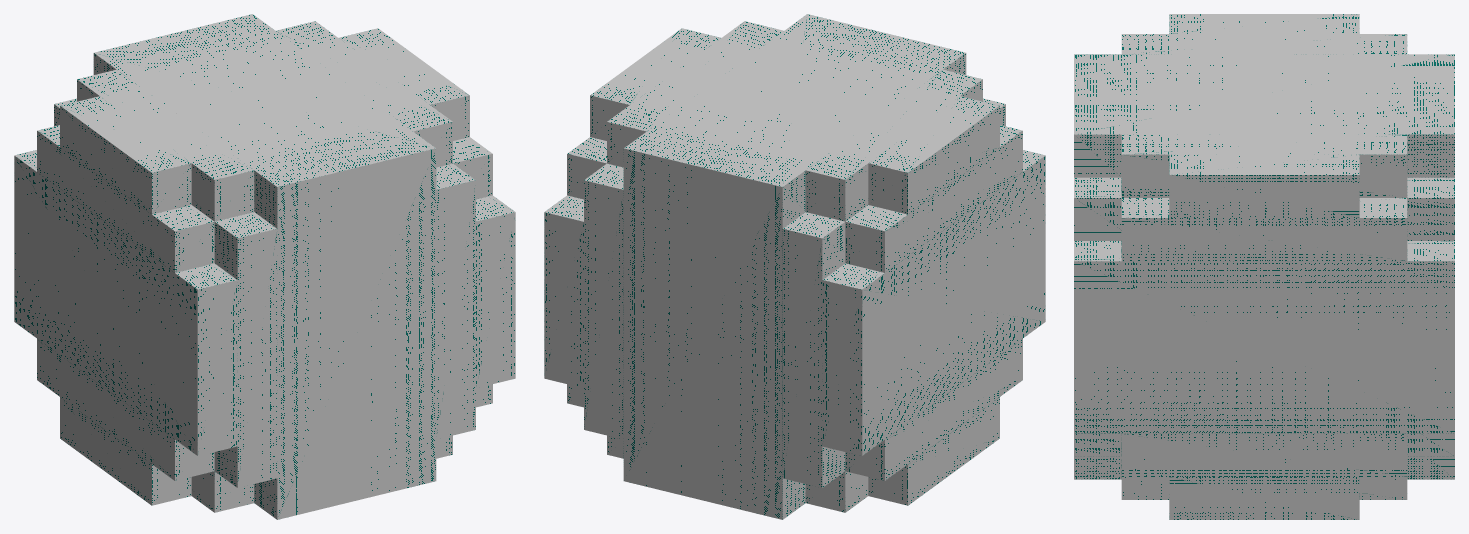
Rendered from green-leaves-block.fbx.
3 views of the same model, side by side, from view 1: azimuth 30°, elevation 25°; view 2: azimuth 150°, elevation 25°; view 3: azimuth 270°, elevation 25° (orthographic). The views are drawn at different scales.
Parts seen in each view (by area): view 1: generated; view 2: generated; view 3: generated.
Part boxes in pixels (x1,y1,x2,y2): generated: [14, 14, 515, 519]; generated: [544, 14, 1045, 519]; generated: [1074, 14, 1454, 519].
Size of the model in its own units: 80 by 80 by 80.
Materials: 1 (1 with a texture image).
